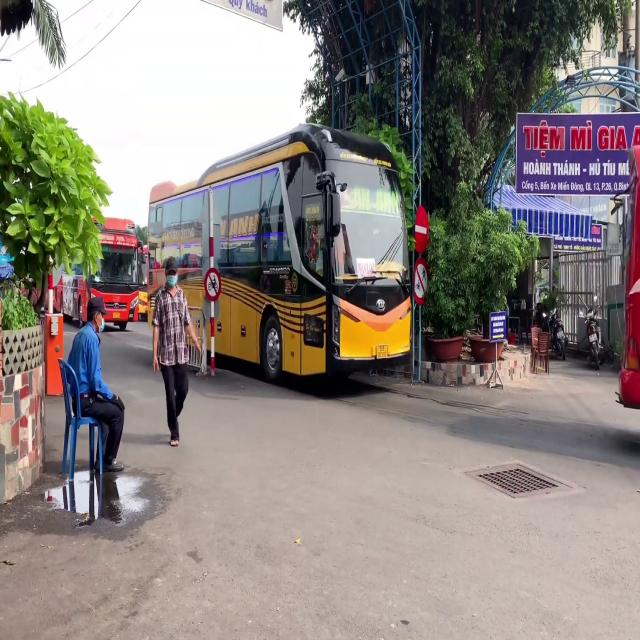bien_vang: (376, 345, 388, 358)
